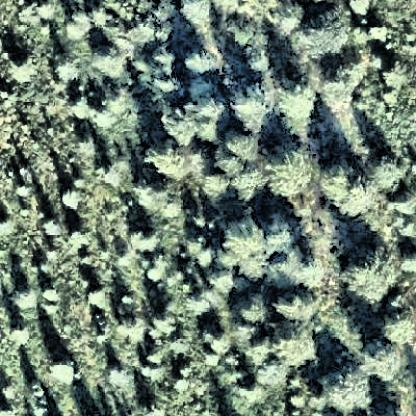tree-top: (145, 136, 201, 182), (324, 364, 374, 412), (271, 320, 321, 363), (269, 146, 312, 192), (341, 238, 385, 282), (302, 8, 344, 51), (189, 96, 226, 141), (88, 40, 131, 78), (229, 84, 267, 125), (226, 216, 265, 255), (361, 339, 398, 377), (165, 108, 200, 148), (279, 283, 316, 319), (278, 81, 315, 117), (322, 58, 357, 95), (222, 128, 263, 159), (368, 150, 403, 183), (322, 156, 353, 193), (384, 309, 415, 345), (343, 187, 378, 218), (267, 215, 297, 251), (48, 352, 79, 386), (131, 178, 158, 214), (133, 17, 162, 50), (245, 335, 273, 369), (294, 252, 325, 282), (178, 1, 213, 27), (156, 73, 186, 103), (188, 45, 219, 74), (31, 1, 66, 24), (210, 329, 235, 361), (66, 226, 98, 251), (131, 222, 160, 249), (237, 171, 264, 200), (120, 314, 146, 343), (215, 152, 245, 177), (207, 266, 236, 291), (202, 166, 227, 194), (247, 48, 275, 73), (6, 52, 30, 81), (54, 54, 79, 81), (150, 305, 175, 332), (391, 187, 416, 213), (240, 296, 266, 320), (94, 100, 117, 127), (95, 163, 119, 188), (13, 286, 37, 310), (239, 376, 262, 400), (57, 184, 81, 206), (70, 97, 89, 124), (396, 249, 416, 273), (104, 362, 125, 383), (87, 284, 105, 307), (40, 215, 60, 234)
